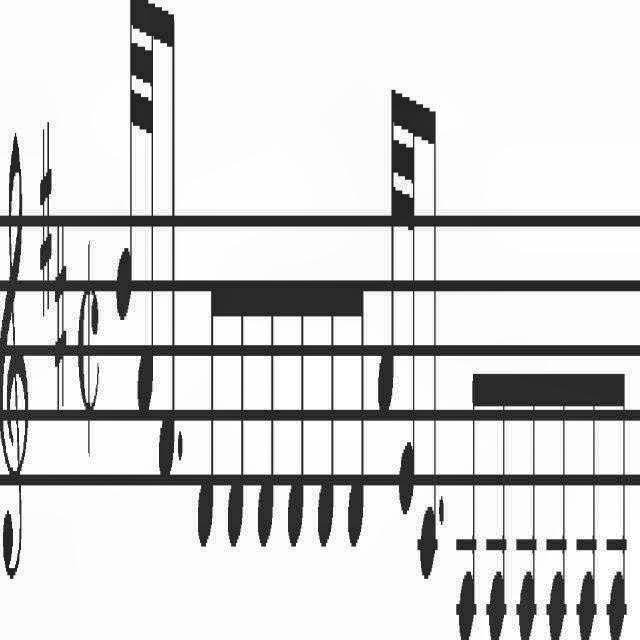Bass-clef: (0, 125, 28, 582)
Diez: (39, 115, 53, 322), (54, 219, 68, 413)
Eighth-note: (417, 97, 439, 585), (157, 0, 175, 482), (513, 352, 539, 640), (223, 266, 249, 550), (454, 348, 478, 640), (544, 348, 568, 640), (574, 348, 598, 640), (484, 352, 508, 640), (603, 352, 627, 640), (255, 250, 277, 554), (286, 241, 306, 555), (346, 243, 366, 557), (316, 256, 336, 552), (198, 270, 218, 554)
